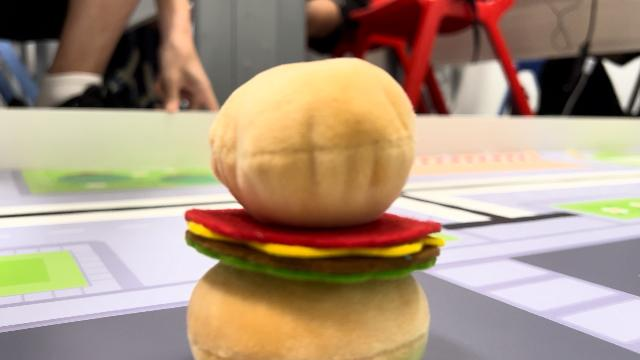burger: (186, 59, 440, 360)
